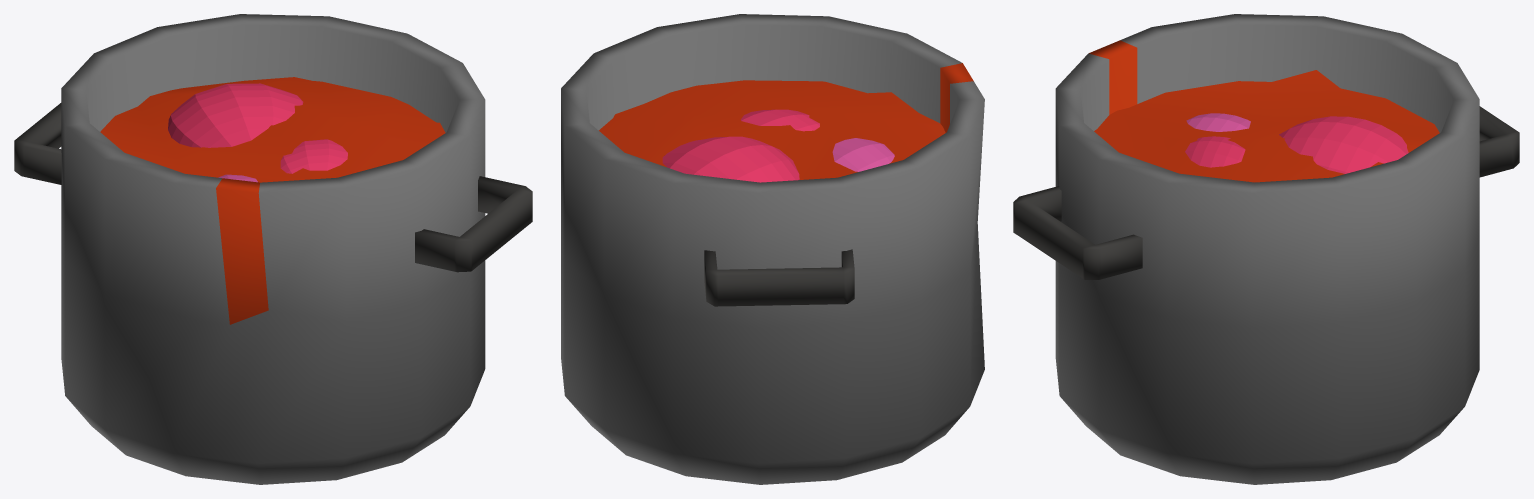
Rendered from Biomass_item.glb.
3 renders of one model, left to right at view 1: azimuth 30°, elevation 25°; view 2: azimuth 150°, elevation 25°; view 3: azimuth 270°, elevation 25°, orthographic.
Visible parts, largest first — view 1: Sphere; view 2: Sphere; view 3: Sphere.
Boxes of the visible parts, x1,y1,x2,y2 form: Sphere: [14, 14, 532, 484]; Sphere: [561, 14, 984, 484]; Sphere: [1013, 14, 1519, 484].
Bounding box in the file's own units: 0.708 × 0.5581 × 0.8443.
1 material, 1 textured.
